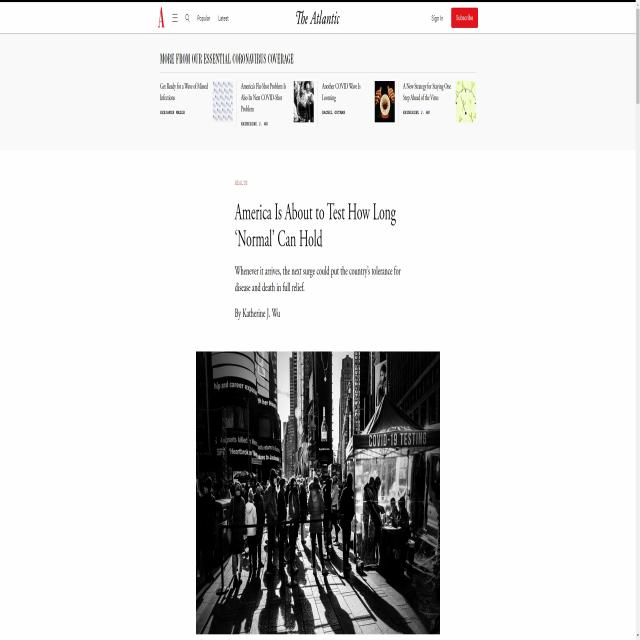menu-bar: (426, 7, 481, 30)
search: (181, 10, 192, 26)
tab-bar: (157, 2, 231, 34)
